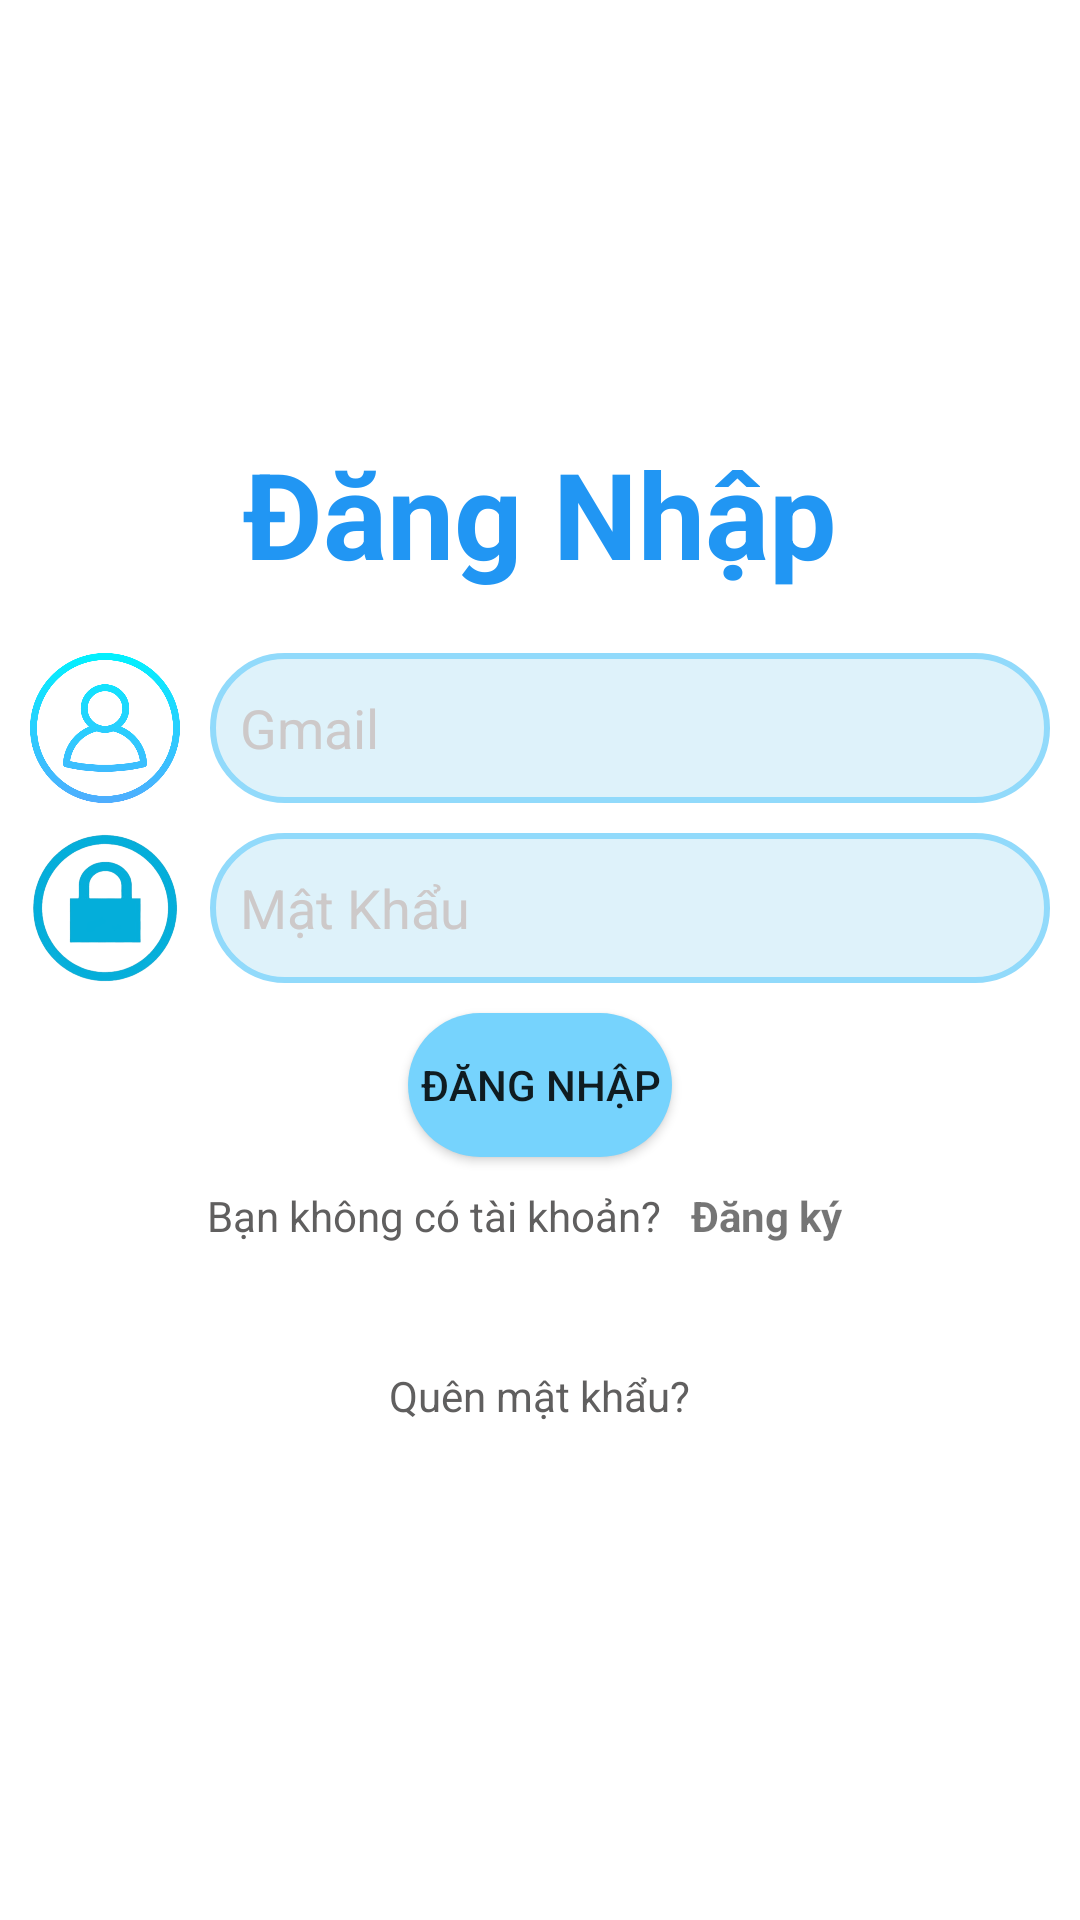

Icons on this 1080x1920 Android screen, each with the point to tap as point (x, y):
iconlock: point (105, 908)
